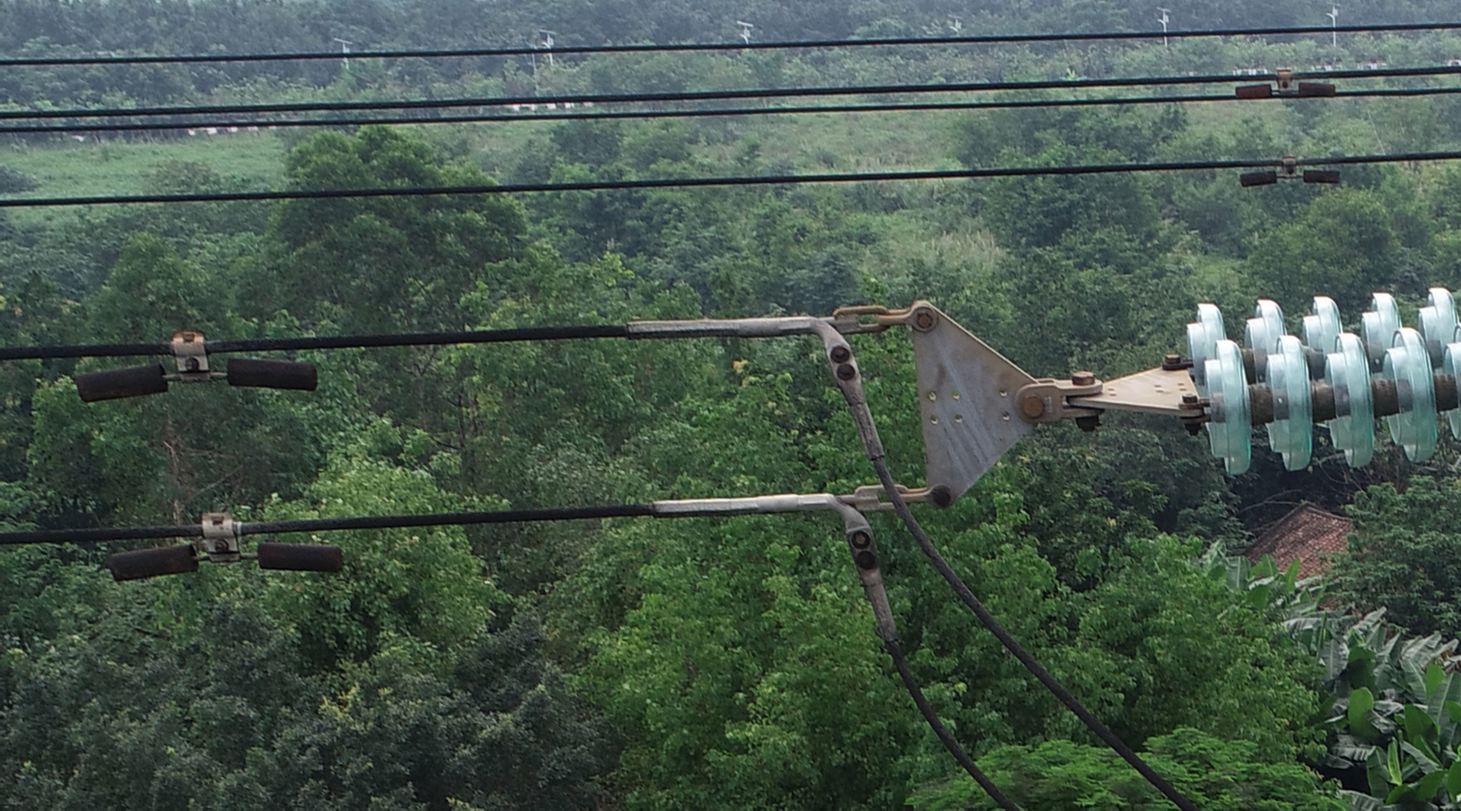damper: (72, 323, 322, 410), (102, 507, 347, 584), (1229, 65, 1339, 101), (1237, 152, 1344, 188)
